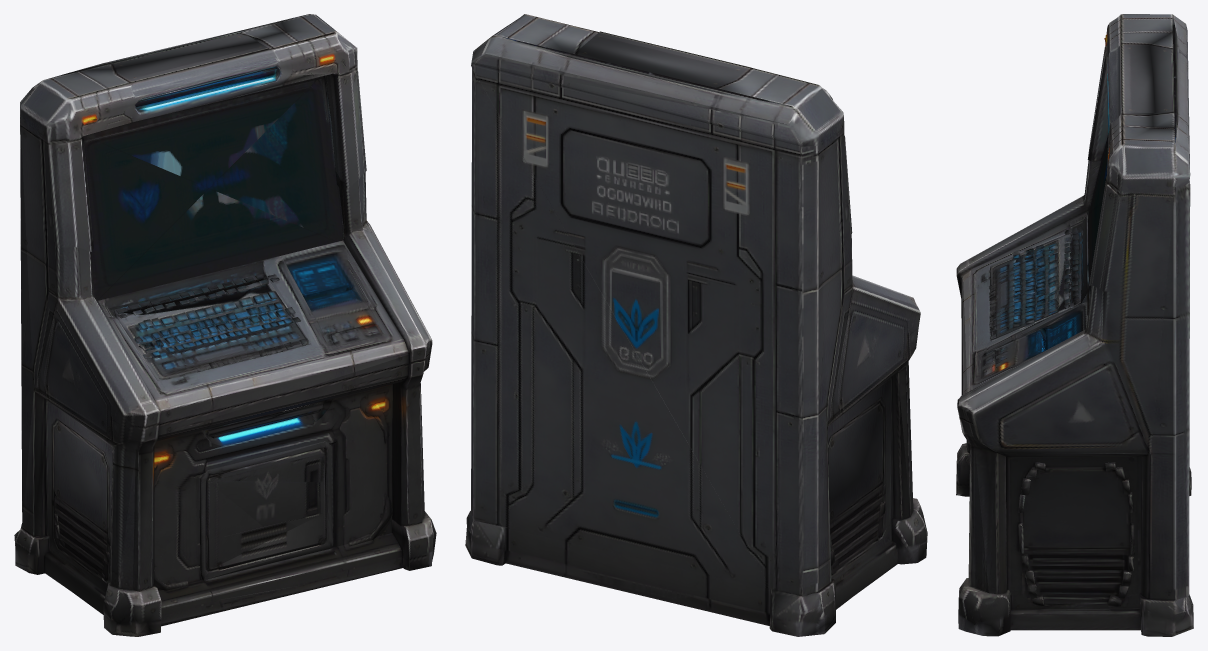
File: crafting_station_2.glb
3 renders of one model, left to right at view 1: azimuth 30°, elevation 25°; view 2: azimuth 150°, elevation 25°; view 3: azimuth 270°, elevation 25°, orthographic. The views are drawn at different scales.
Parts seen in each view (by area): view 1: mesh_node; view 2: mesh_node; view 3: mesh_node.
Boxes of the visible parts, x1,y1,x2,y2 form: mesh_node: [14, 14, 436, 636]; mesh_node: [465, 14, 927, 636]; mesh_node: [956, 14, 1193, 636].
Size of the model in its own units: 1.22 by 1.7 by 0.7633.
Materials: 1 (1 with a texture image).
